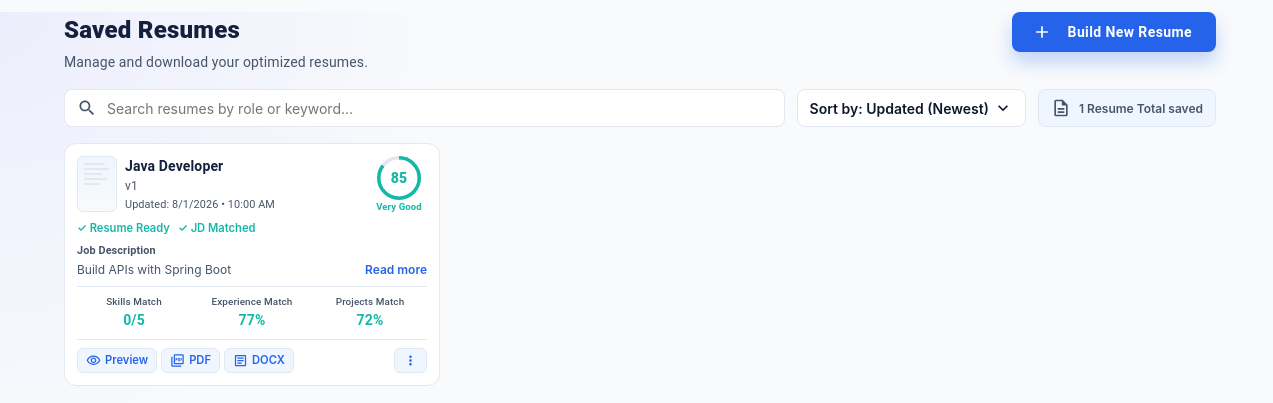
Scenario: SavedResumesPage › shows an error toast when download fails
This screenshot has width=1273, height=403.
Check: the text "Java Developer" is shown, box [125,158,223,174]
Click the button "PDF": (191, 360) [161,348,220,373]
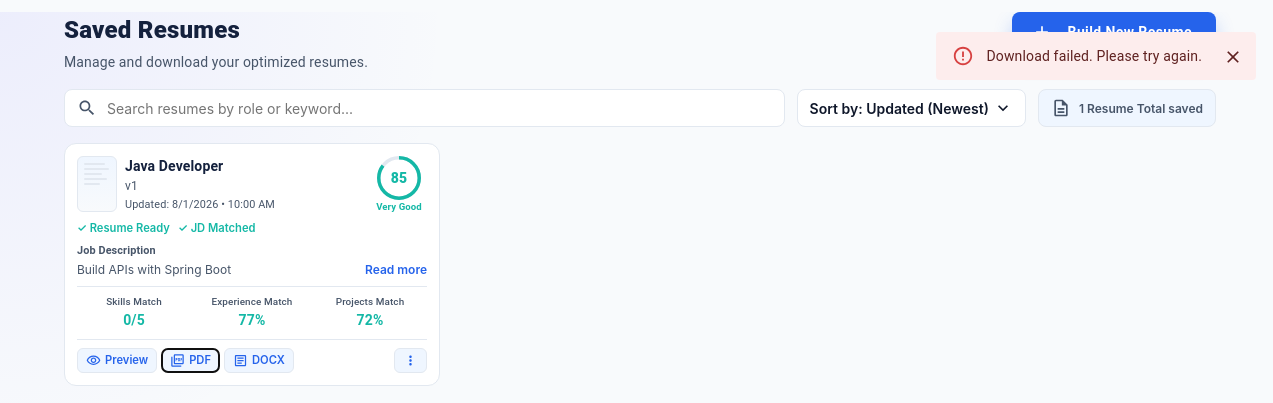
Check: the text "Download failed. Please try again." is shown, box [986,48,1202,64]
